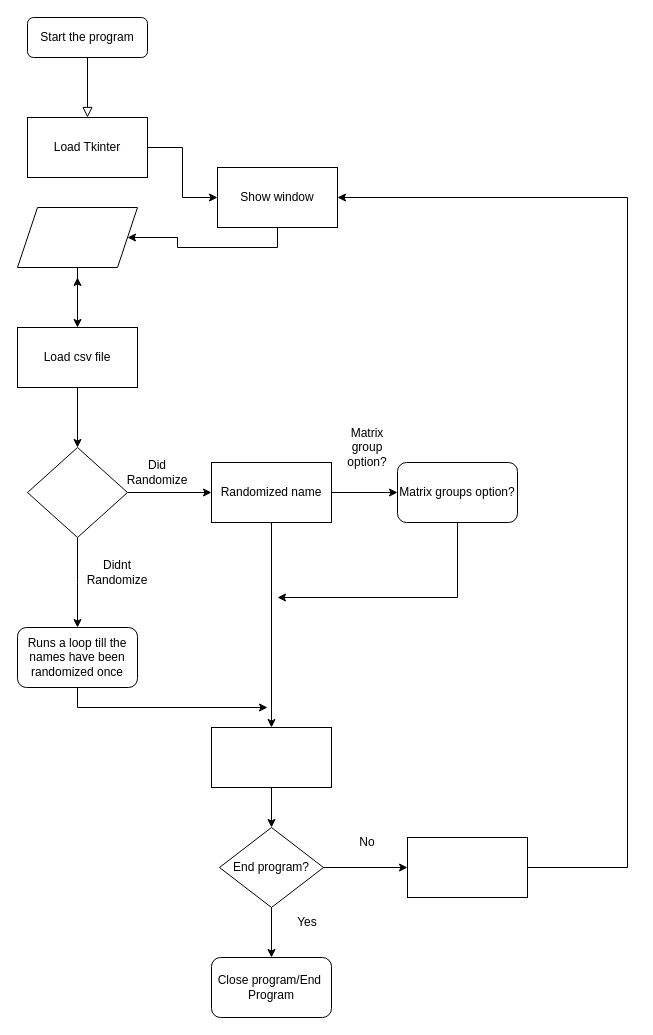
The diagram is 653 pixels wide and 1035 high, and some of its shapes have lost their labels. The centre of each missing label's shape, as x and y in pixels:
Input file: pixel 77 237
Run Generator: pixel 77 492
Run the program again: pixel 467 867
Show group names on window: pixel 271 757
